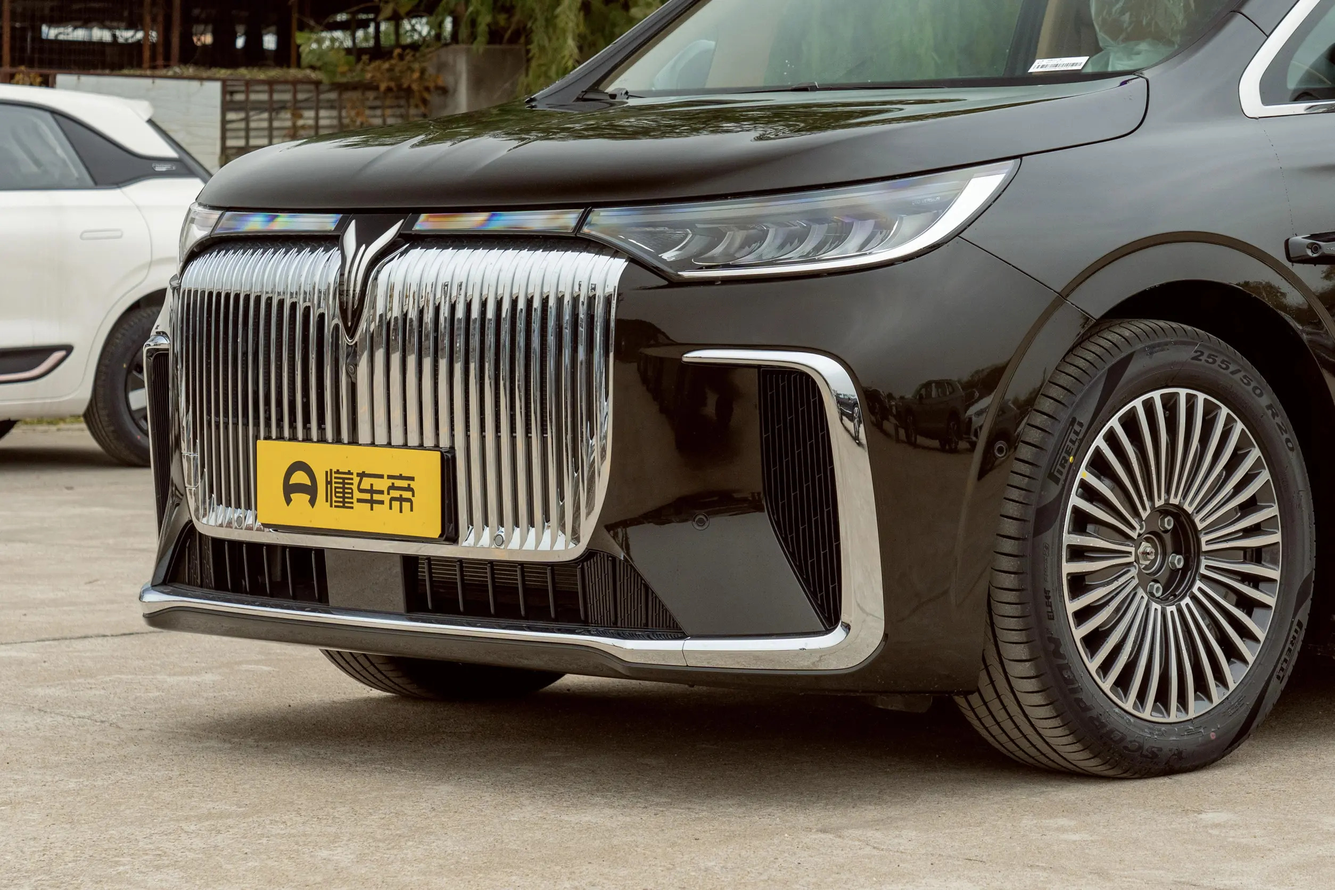VOYAH: (343, 219, 403, 326)
